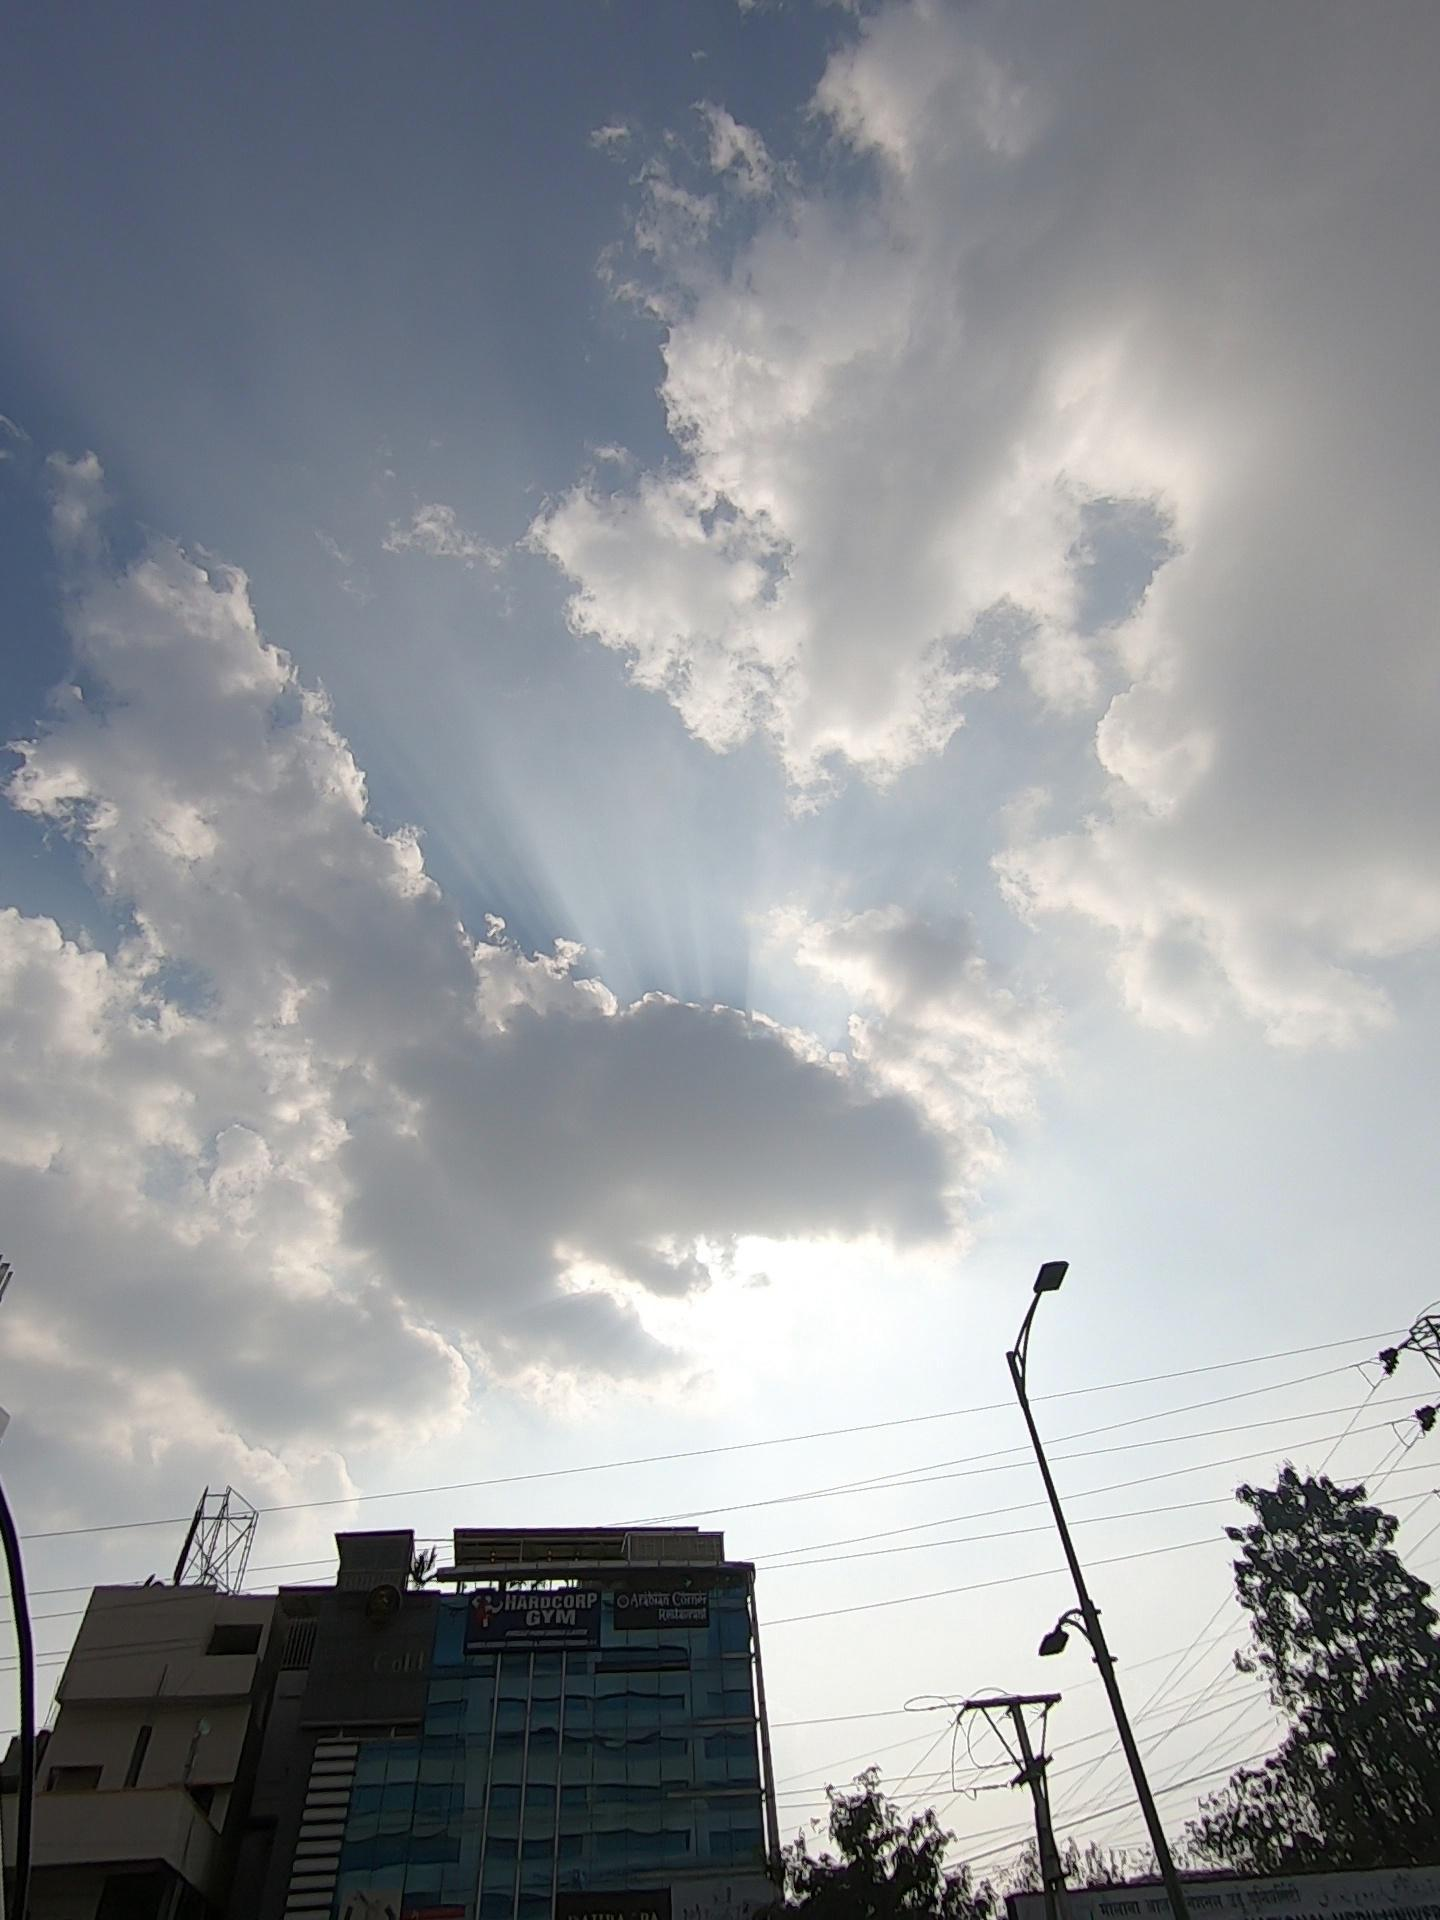off: (870, 1211, 1107, 1631)
